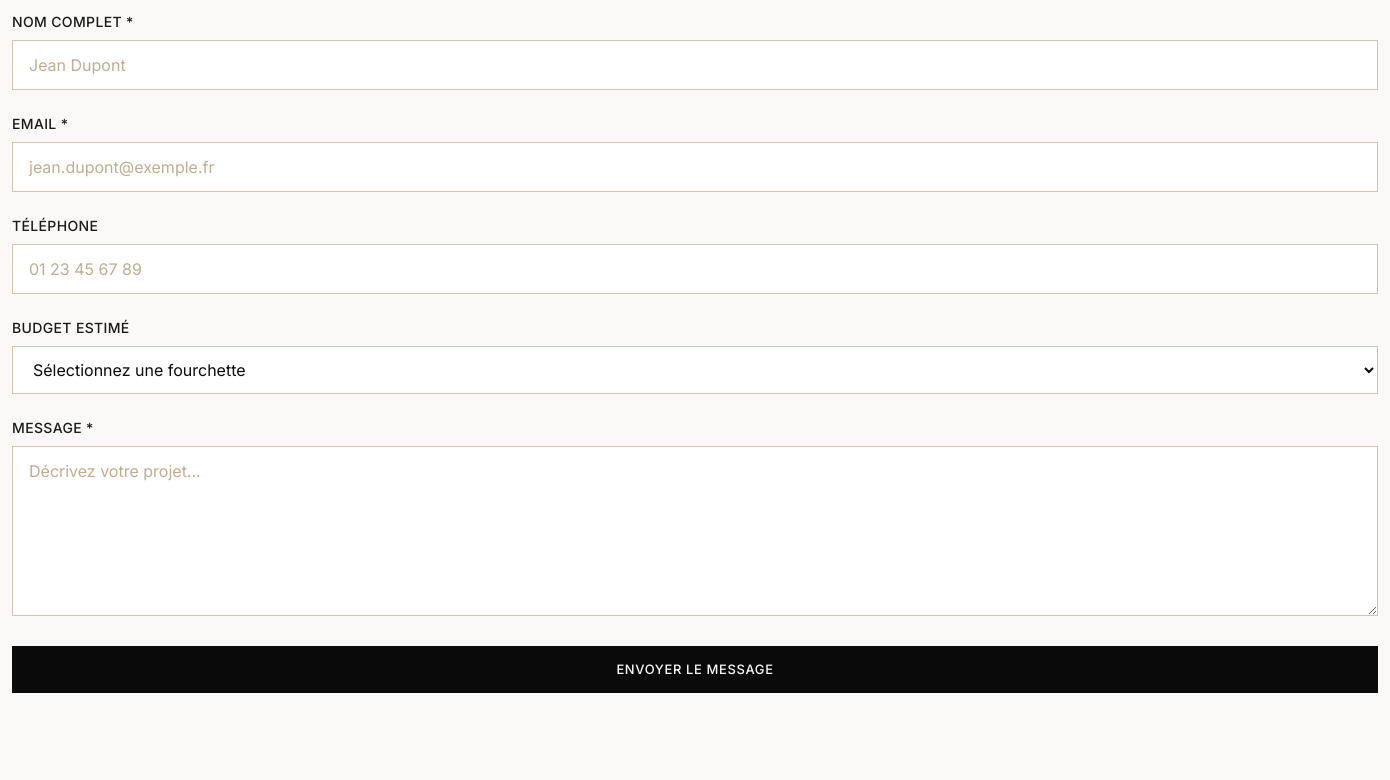
Test: ContactForm › shows validation error for short message
The width and height of the screenshot is (1390, 780).
Step 1. Type "Short" into the text box labelled "Message *" → (695, 531), box [12, 446, 1378, 616]
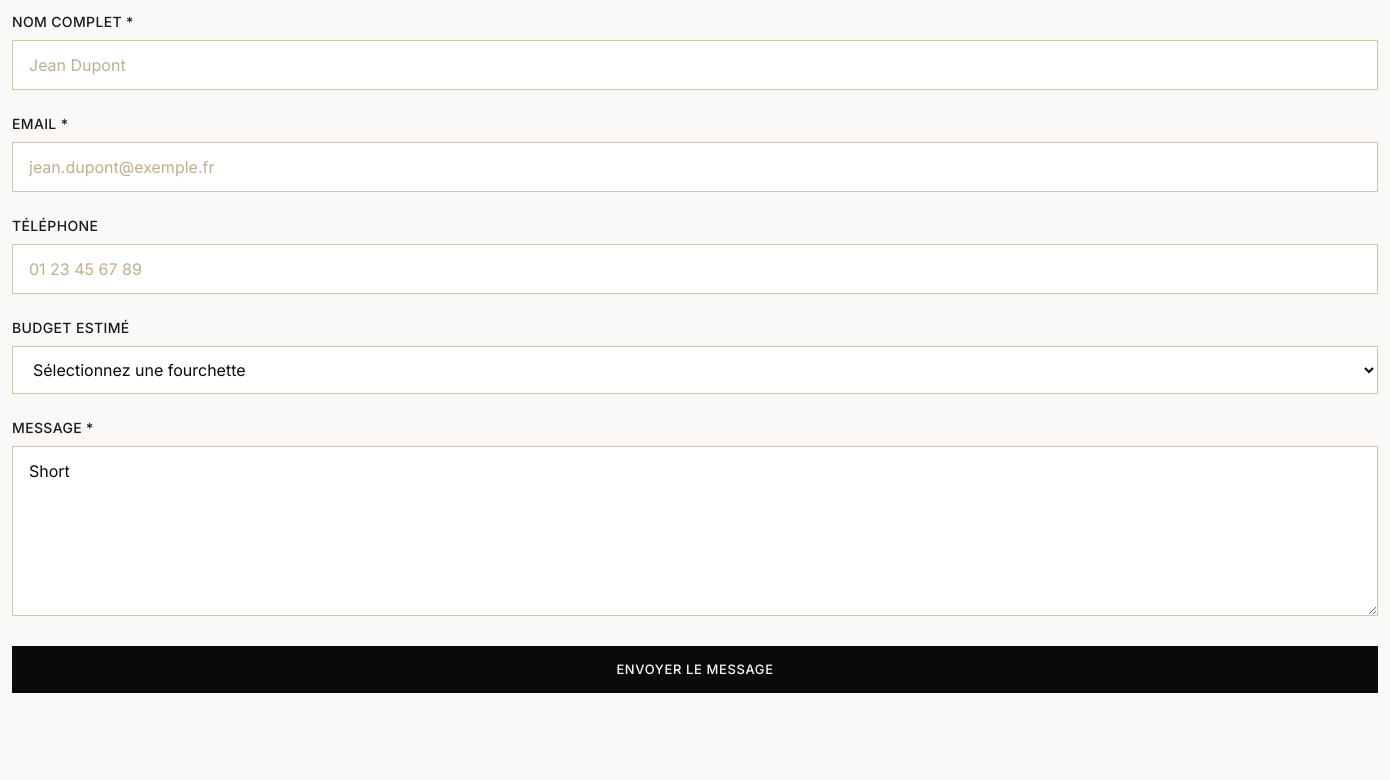
Step 2. Click the button "Envoyer le message" → (695, 670), box [12, 646, 1378, 693]
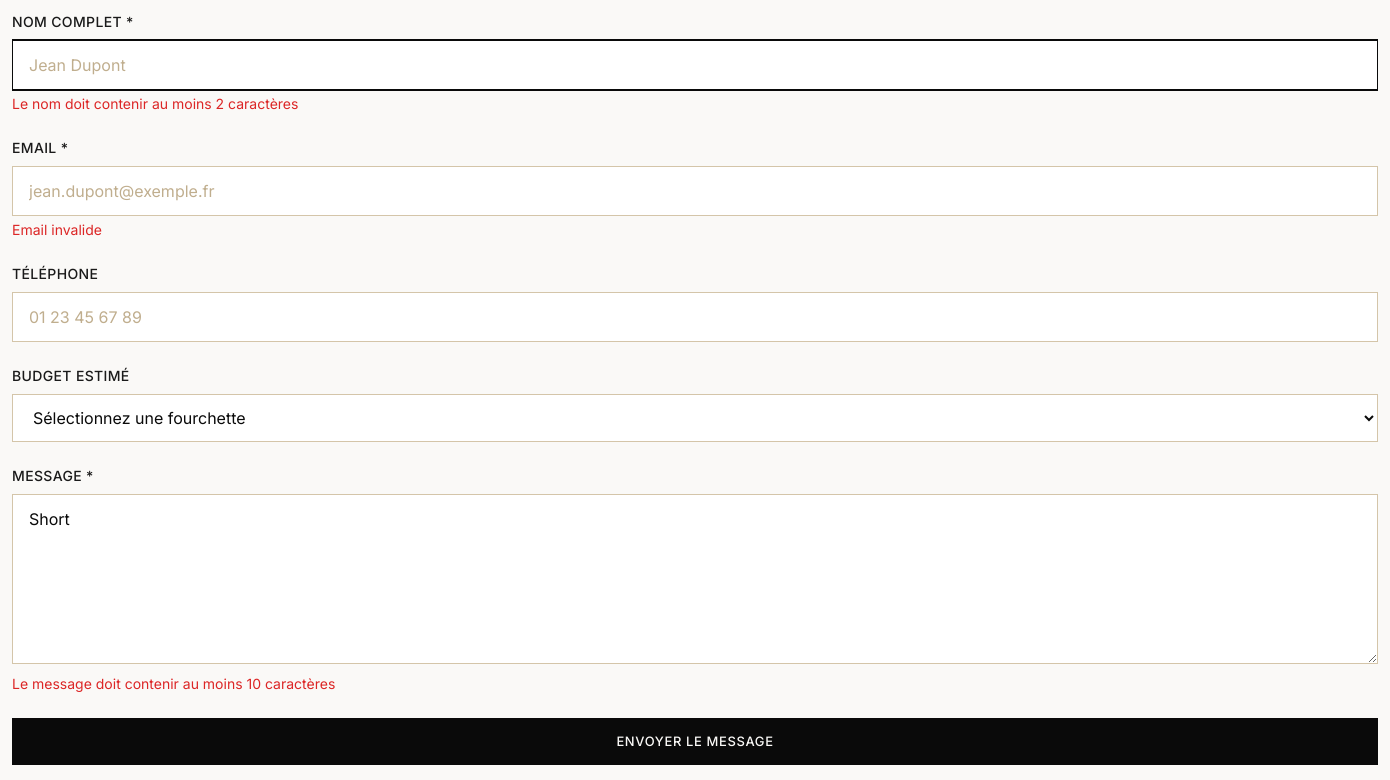
Expected: the text "Le message doit contenir au moins 10 caractères" is shown, [12, 675, 335, 692]
